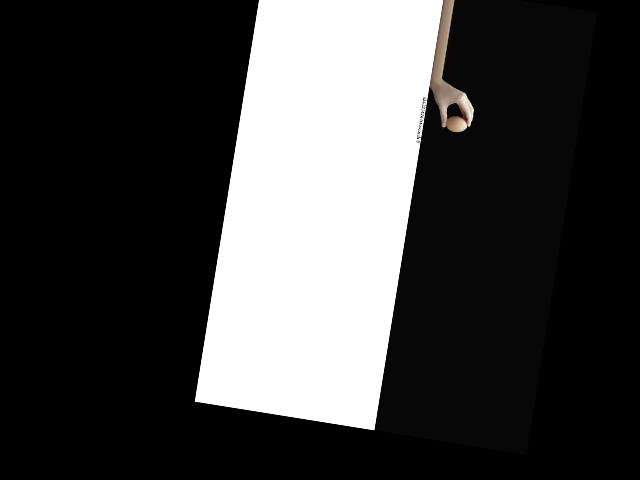egg: (444, 115, 468, 133)
